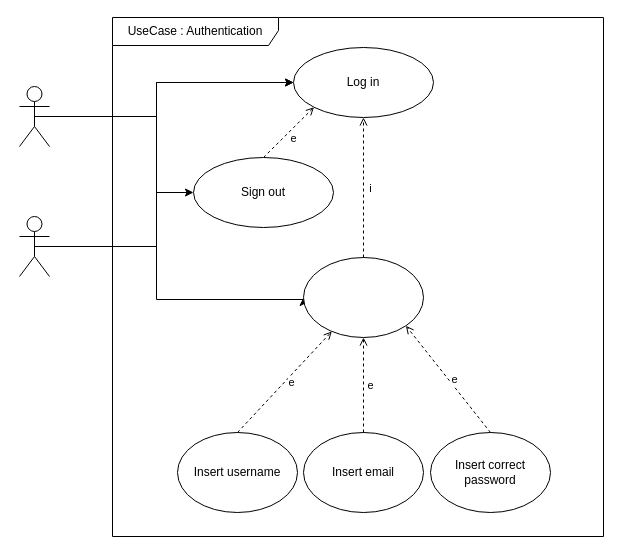
Image size: 621x554. Some labels were removed from this diagram. Each missing label, with the centre of its shape:
Admin: point (34, 116)
Sign up: point (363, 297)
User: point (34, 246)
